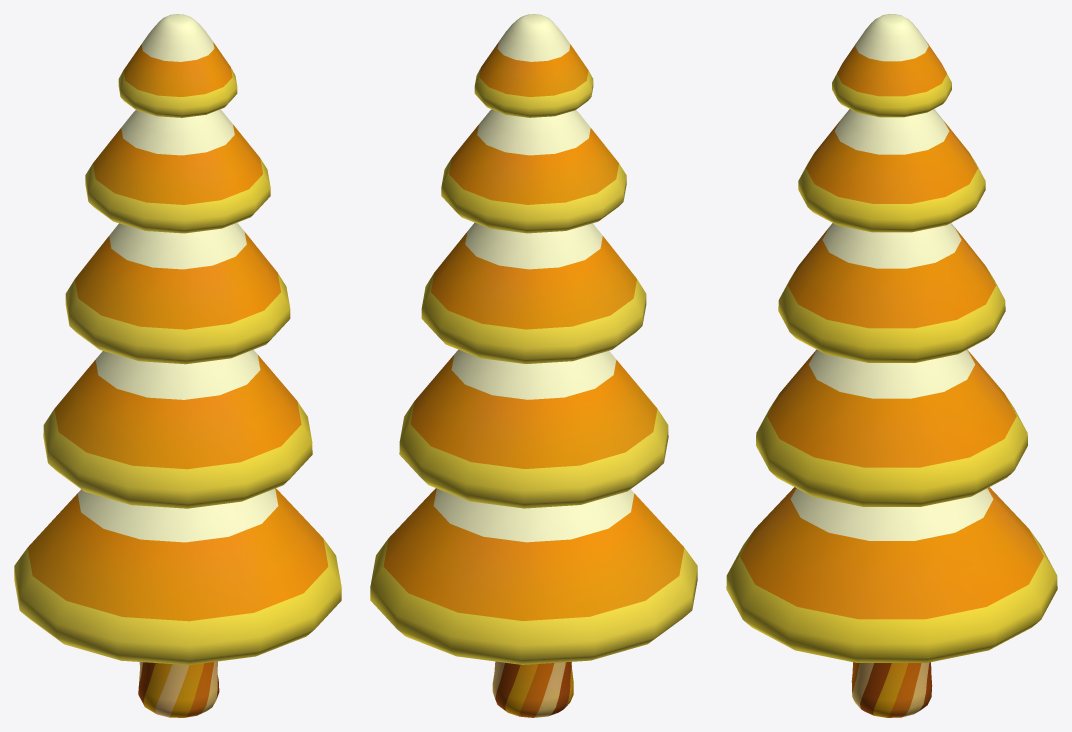
The model's file is cw_tree_19.fbx.
3 renders of one model, left to right at view 1: azimuth 30°, elevation 25°; view 2: azimuth 150°, elevation 25°; view 3: azimuth 270°, elevation 25°, orthographic.
Parts seen in each view (by area): view 1: cw_t_19; view 2: cw_t_19; view 3: cw_t_19.
Boxes of the visible parts, bbox=[...] form: cw_t_19: bbox=[14, 14, 341, 717]; cw_t_19: bbox=[370, 14, 697, 717]; cw_t_19: bbox=[726, 14, 1057, 717].
Bounding box in the file's own units: 81.65 × 192 × 83.75.
